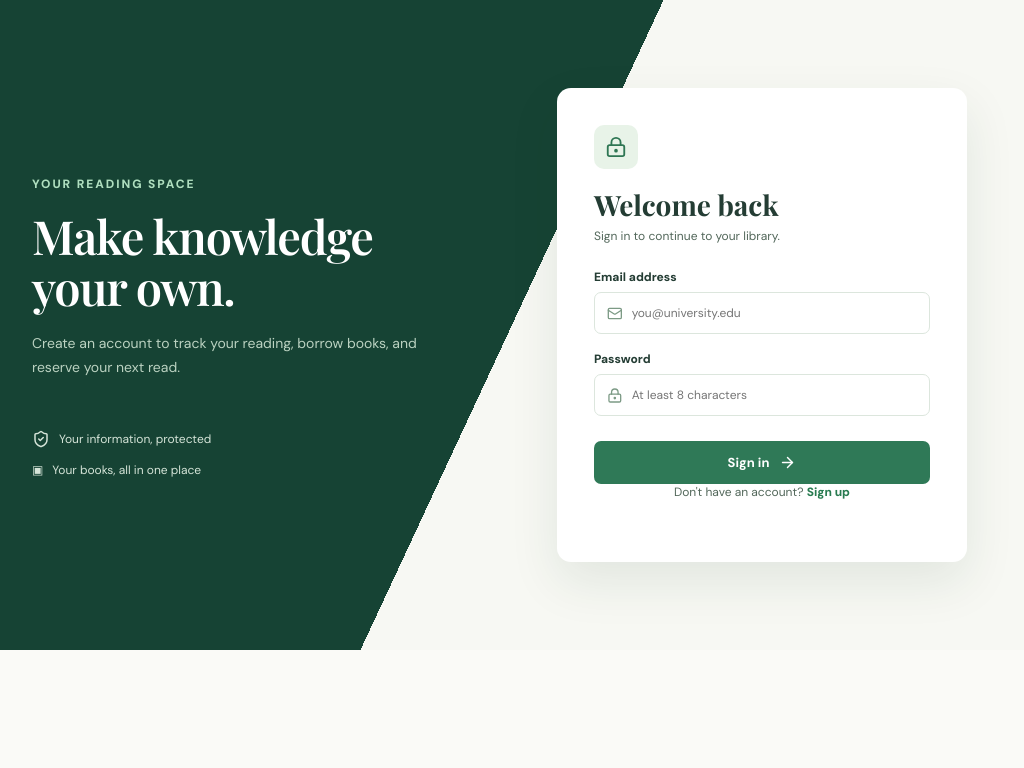
Test case: shows rejected credentials and allows retrying
In the field labelled "Email address": (774, 313) top-left (632, 293), bottom-right (917, 333), type "ana@campus.edu"
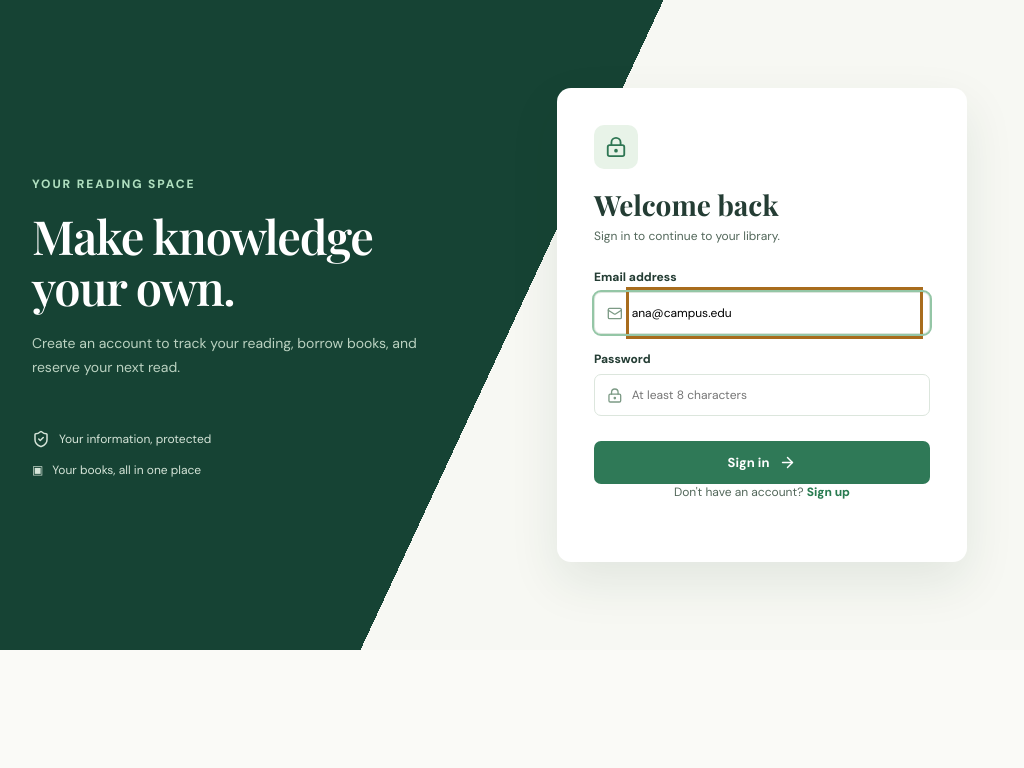
In the password field labelled "Password": (774, 395) top-left (632, 375), bottom-right (917, 415), type "password123"
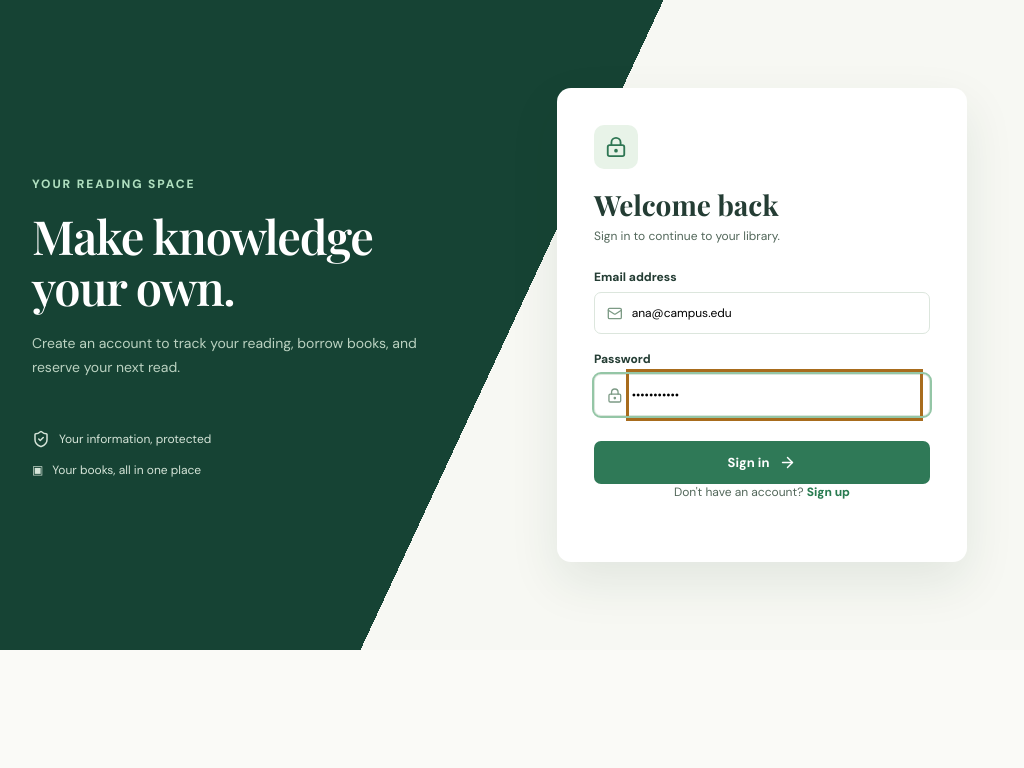
Click the button "Sign in": (762, 462) top-left (594, 441), bottom-right (930, 484)
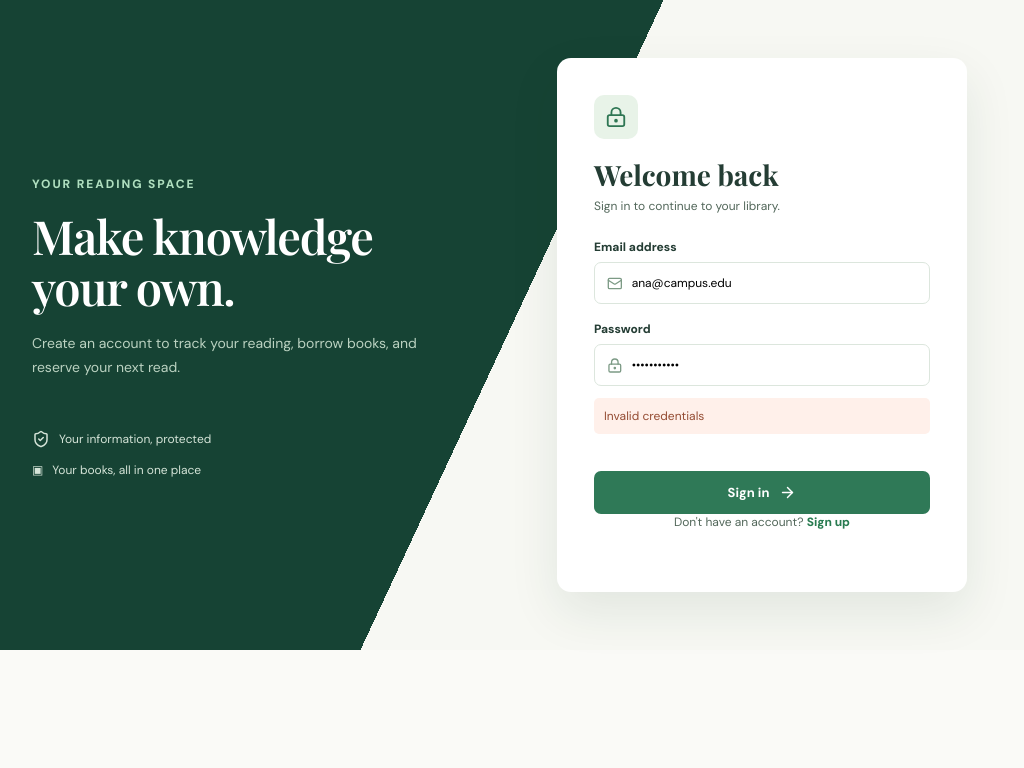
Check: the button "Sign in" is enabled, box top-left (594, 471), bottom-right (930, 514)
Check: the message reads "Invalid credentials", box top-left (604, 408), bottom-right (704, 424)
